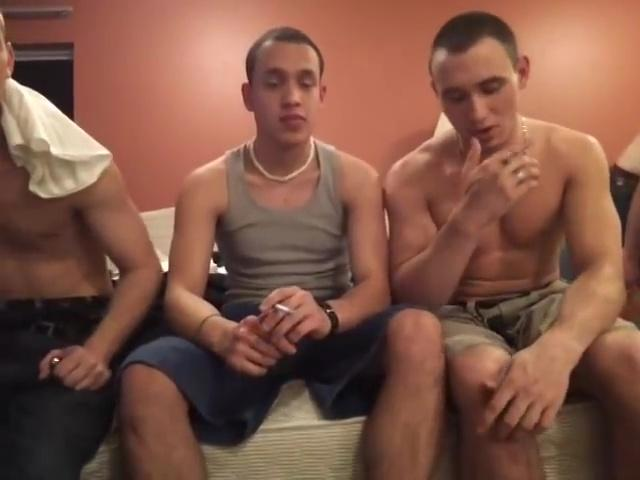cigarette: (272, 301, 299, 318), (521, 115, 527, 146)
